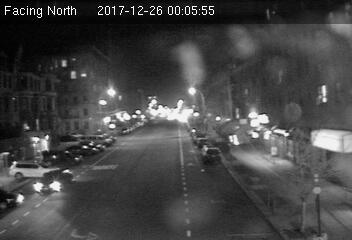car: (30, 171, 74, 193), (201, 144, 221, 161)
